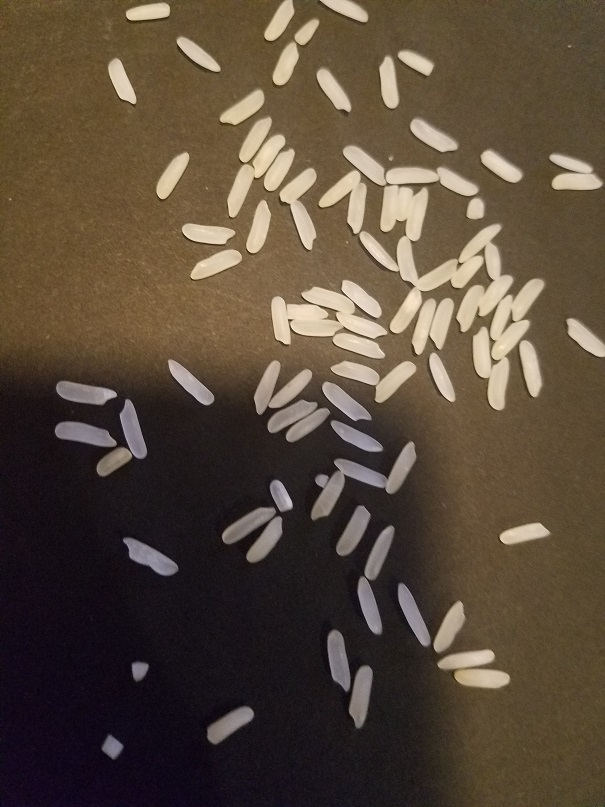egg: (165, 360, 215, 408), (319, 380, 373, 423), (121, 537, 179, 577), (397, 582, 432, 648), (220, 508, 275, 547), (202, 706, 255, 746), (341, 144, 388, 189), (266, 367, 312, 411), (334, 505, 372, 558), (433, 598, 467, 656), (332, 455, 391, 488), (118, 398, 147, 465), (218, 88, 266, 128), (363, 525, 396, 583), (265, 398, 318, 434), (372, 362, 416, 405), (456, 222, 501, 264), (308, 472, 343, 526), (55, 378, 118, 408), (175, 35, 223, 74), (244, 516, 283, 564), (490, 319, 532, 363), (384, 441, 418, 495), (315, 67, 353, 115), (188, 250, 243, 283), (410, 117, 459, 154), (330, 418, 383, 452), (155, 150, 189, 202), (224, 163, 255, 219), (359, 230, 399, 273), (475, 274, 514, 318), (237, 116, 272, 165), (246, 199, 275, 257), (340, 278, 382, 318), (317, 171, 361, 209), (54, 422, 118, 448), (300, 284, 357, 313), (411, 298, 438, 359), (357, 576, 384, 637), (261, 147, 296, 194), (283, 408, 331, 442), (479, 149, 524, 185), (347, 664, 372, 728), (326, 628, 351, 692), (251, 134, 285, 180), (565, 317, 605, 356), (252, 359, 279, 416), (415, 257, 460, 291), (389, 289, 422, 335), (107, 56, 137, 106), (289, 200, 318, 251), (519, 339, 544, 398), (262, 1, 297, 43), (429, 298, 456, 352), (332, 333, 386, 360), (455, 284, 484, 333), (279, 167, 318, 203), (426, 352, 454, 402), (331, 358, 380, 386), (436, 165, 480, 196), (334, 312, 388, 337), (405, 186, 429, 241), (511, 279, 543, 320), (271, 41, 299, 87), (485, 356, 508, 412), (498, 521, 551, 545), (345, 181, 368, 235), (452, 669, 511, 690), (436, 649, 495, 670), (180, 223, 236, 245), (319, 1, 370, 25), (96, 445, 132, 479), (384, 165, 438, 187), (377, 55, 399, 109), (472, 326, 493, 380), (396, 48, 435, 77), (489, 294, 512, 343), (450, 255, 484, 288), (396, 237, 418, 288), (271, 295, 292, 347), (289, 317, 340, 337), (547, 152, 593, 174), (124, 1, 171, 22), (551, 173, 602, 191), (268, 478, 294, 510), (380, 185, 397, 233), (484, 242, 504, 280), (285, 303, 328, 320), (395, 186, 415, 222), (294, 17, 319, 45), (100, 735, 126, 760), (465, 196, 486, 219), (130, 663, 149, 683), (313, 473, 327, 488)
